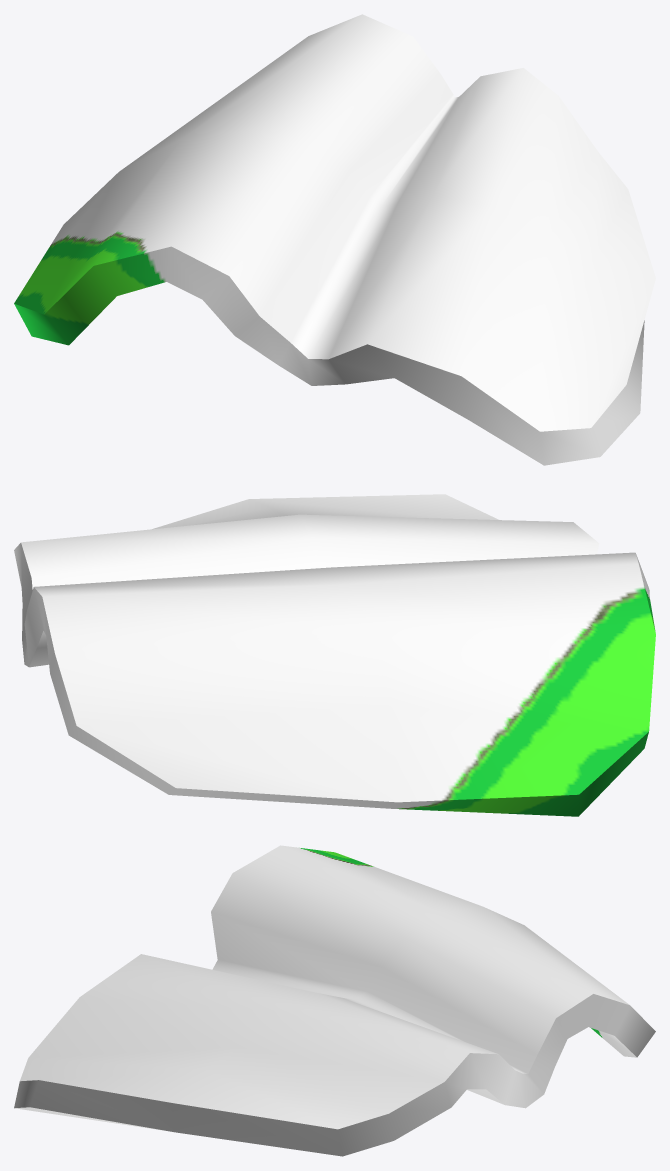
File: LettuceCut.02]_1.fbx
3 renders of one model, top to bottom at view 1: azimuth 30°, elevation 25°; view 2: azimuth 150°, elevation 25°; view 3: azimuth 270°, elevation 25°, orthographic. The views are drawn at different scales.
Parts seen in each view (by area): view 1: LettuceCut.02]; view 2: LettuceCut.02]; view 3: LettuceCut.02].
Part boxes in pixels (x1,y1,x2,y2): LettuceCut.02]: (14, 14, 655, 465); LettuceCut.02]: (14, 494, 655, 816); LettuceCut.02]: (14, 845, 655, 1156).
Bounding box in the file's own units: 45.2 × 13.75 × 51.58.
